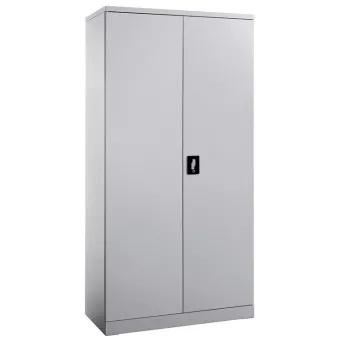cabinet_door: (105, 12, 182, 317), (184, 16, 254, 307), (186, 157, 199, 176)
handle: (188, 156, 198, 174)
